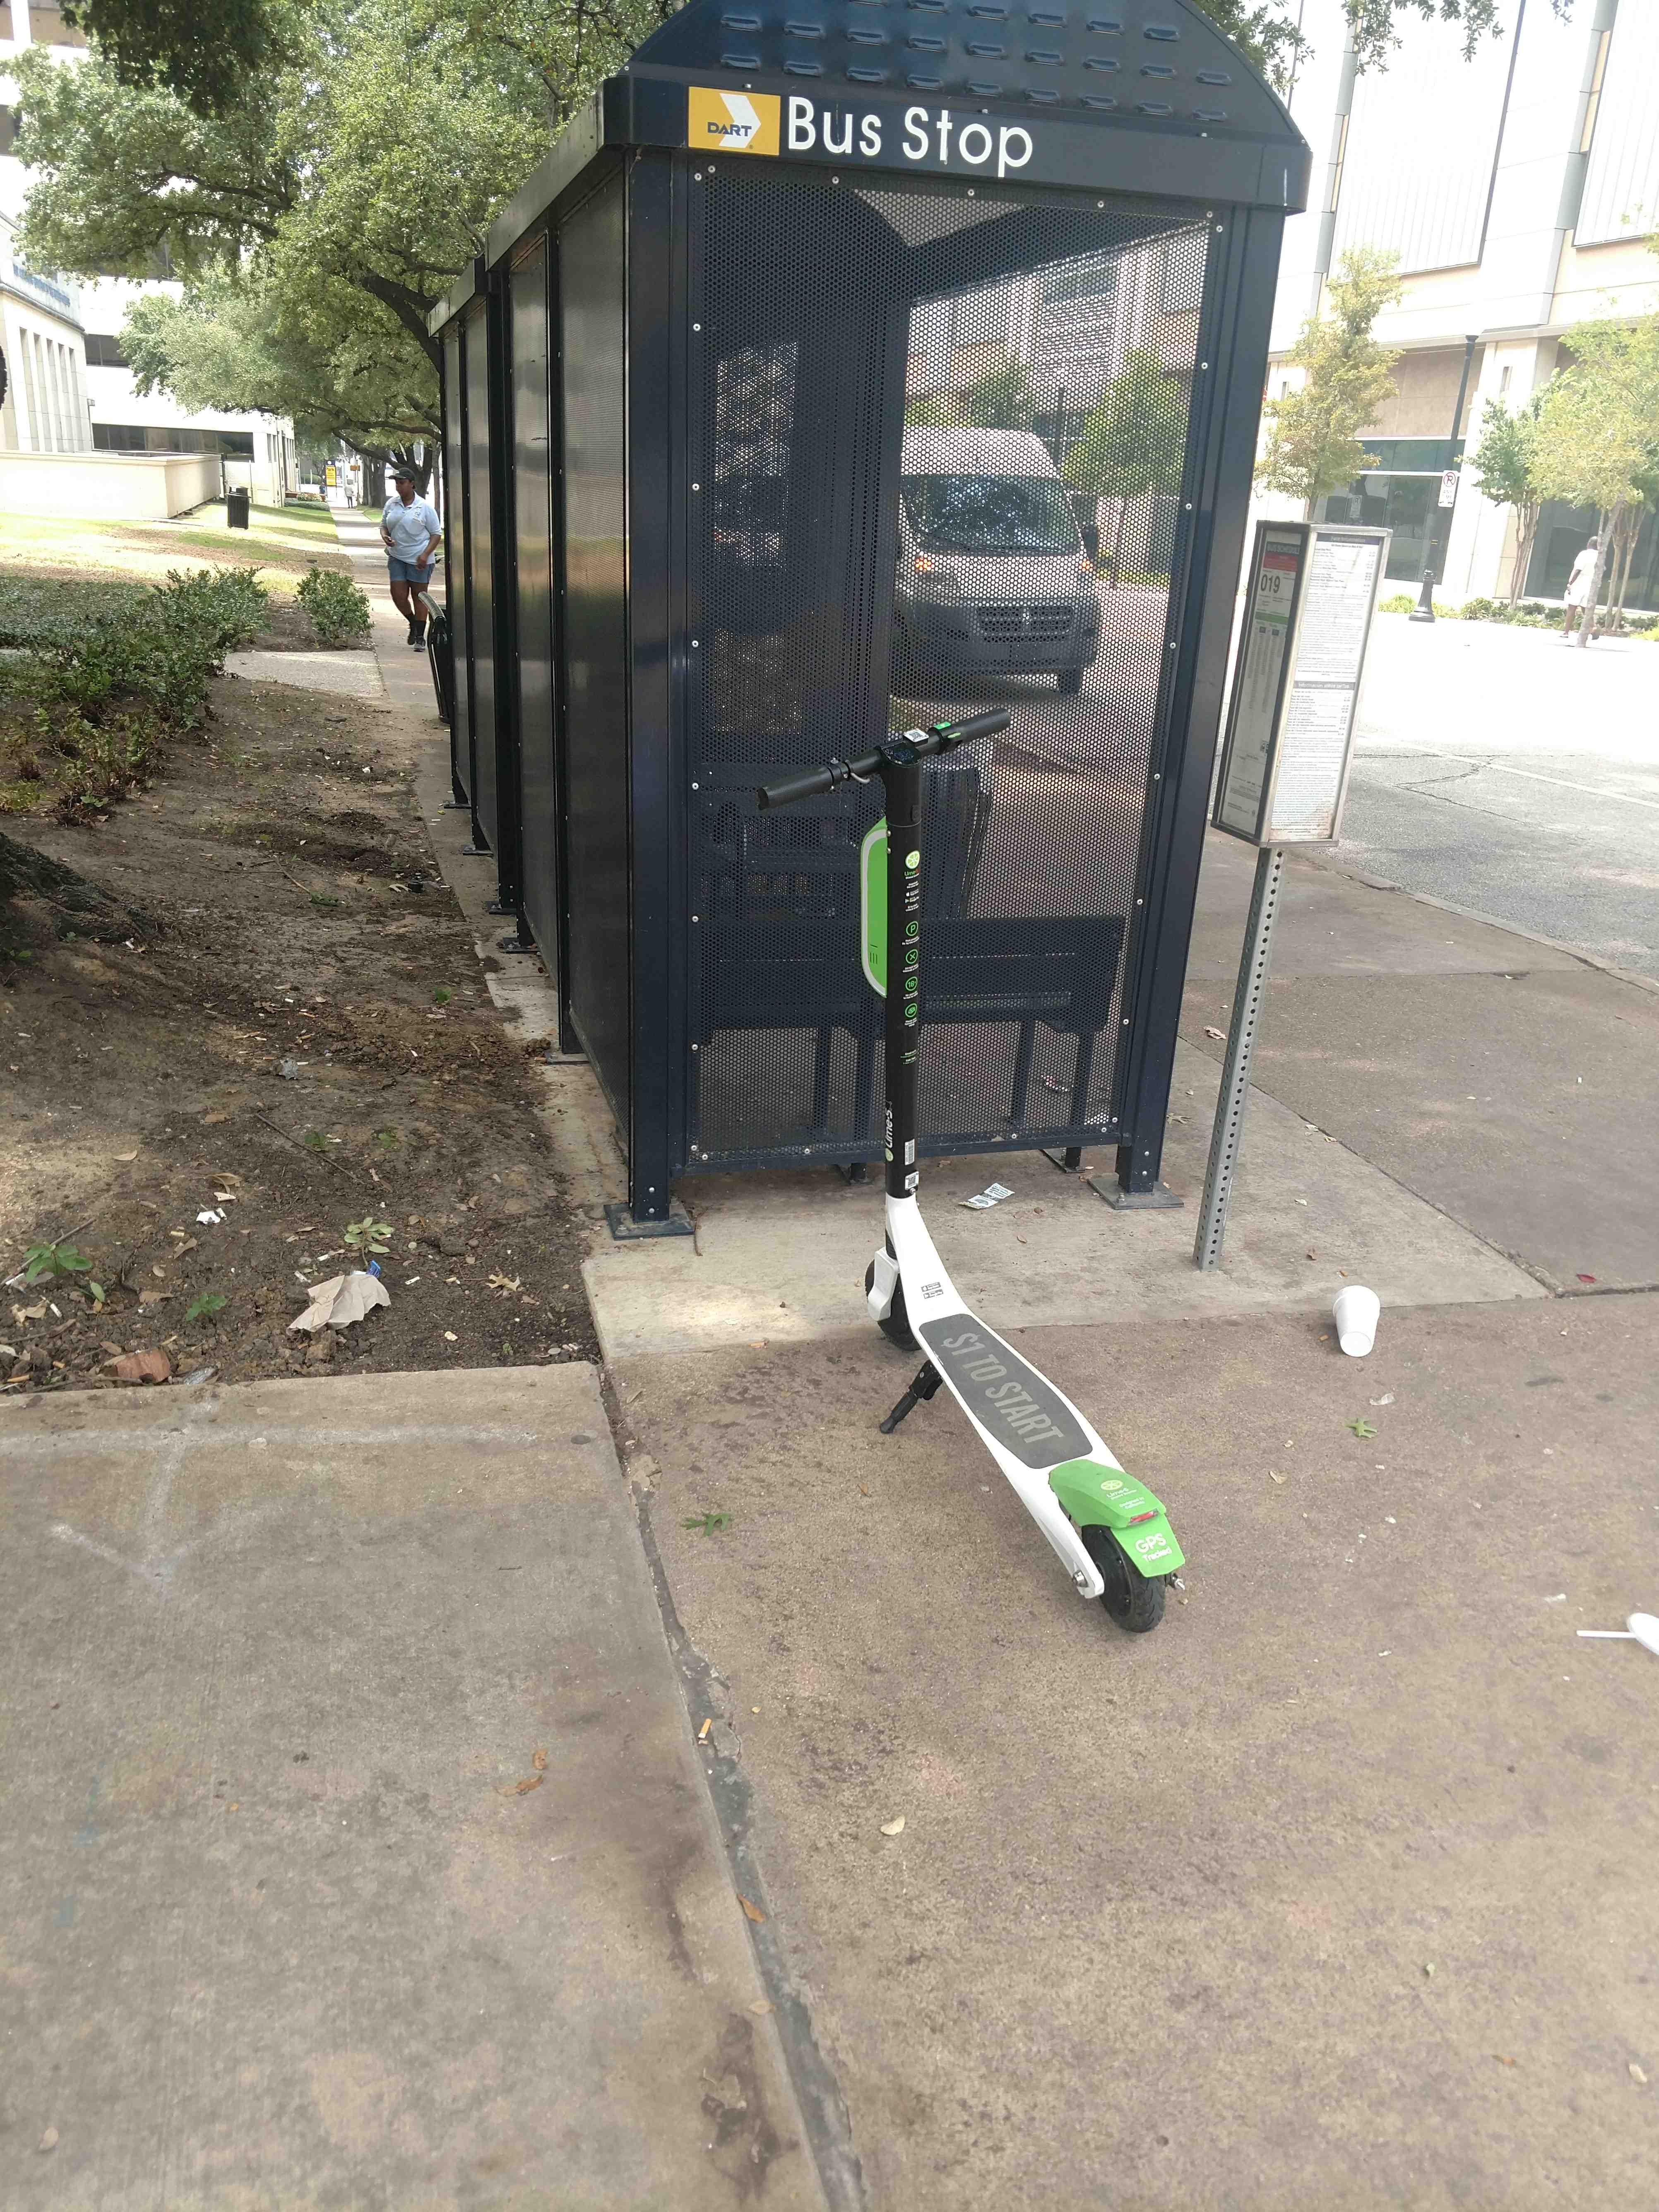scooter: (725, 690, 1236, 1658)
